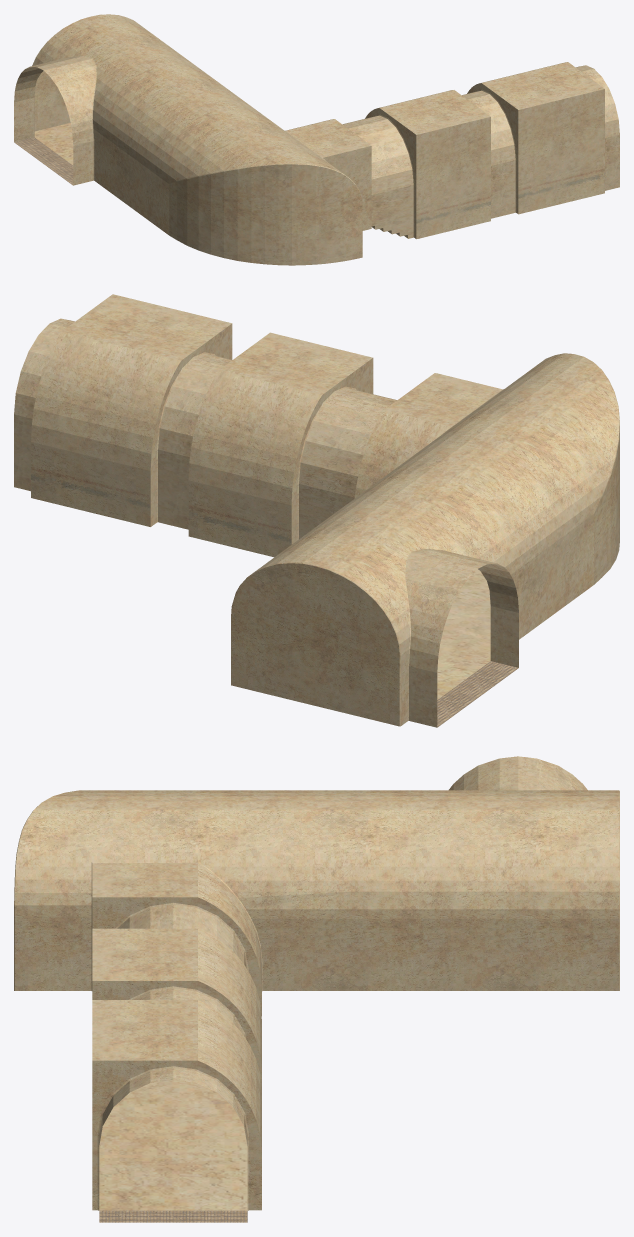
File: thm_tato_cantina_r14_back_hallway_mesh_r14.fbx
3 renders of one model, top to bottom at view 1: azimuth 30°, elevation 25°; view 2: azimuth 150°, elevation 25°; view 3: azimuth 270°, elevation 25°, orthographic. The views are drawn at different scales.
Parts seen in each view (by area): view 1: mesh_node; view 2: mesh_node; view 3: mesh_node.
Boxes of the visible parts, <box> form: mesh_node: <box>14,14,619,265</box>; mesh_node: <box>14,294,619,727</box>; mesh_node: <box>14,756,619,1222</box>.
Size of the model in its own units: 21.02 by 5.74 by 17.86.
